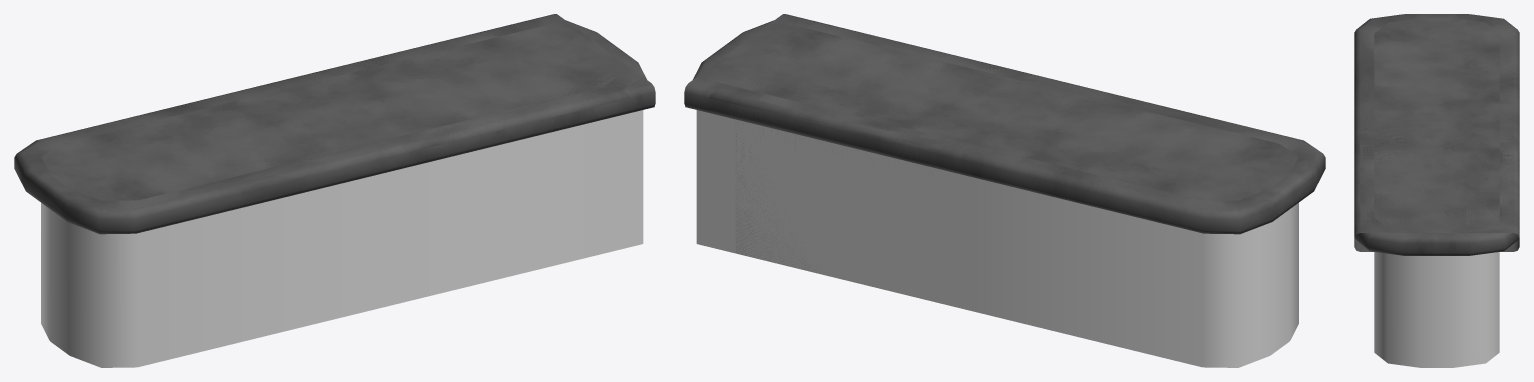
Rendered from sm_bar_modularkit.fbx.
3 renders of one model, left to right at view 1: azimuth 30°, elevation 25°; view 2: azimuth 150°, elevation 25°; view 3: azimuth 270°, elevation 25°, orthographic. The views are drawn at different scales.
Parts seen in each view (by area): view 1: Bar_R, Bar_L, Bar_M; view 2: Bar_R, Bar_M, Bar_L; view 3: Bar_L, Bar_R, Bar_M.
Boxes of the visible parts, <box> form: Bar_R: <box>14,80,383,367</box>; Bar_L: <box>283,20,646,306</box>; Bar_M: <box>286,14,655,310</box>; Bar_R: <box>956,80,1325,367</box>; Bar_M: <box>684,14,1050,310</box>; Bar_L: <box>693,20,1056,276</box>; Bar_L: <box>1354,125,1519,367</box>; Bar_R: <box>1354,14,1519,129</box>; Bar_M: <box>1354,125,1519,251</box>.
Size of the model in its own units: 421 by 117 by 130.
